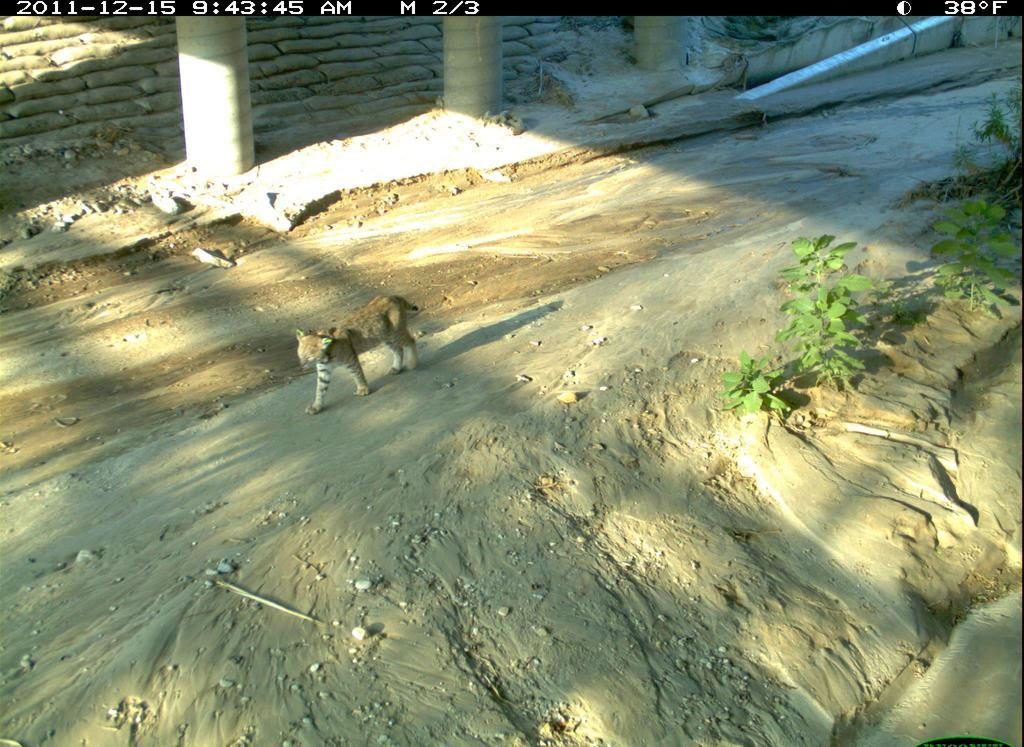bobcat: (278, 282, 445, 425)
